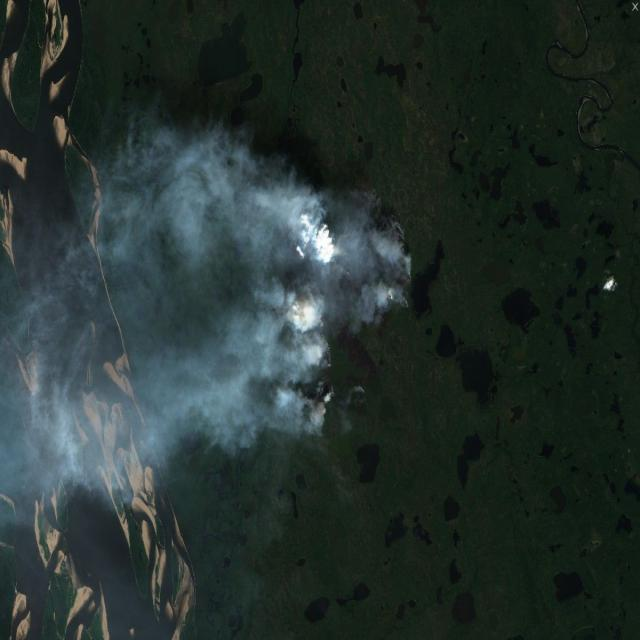fire: (258, 200, 414, 449)
